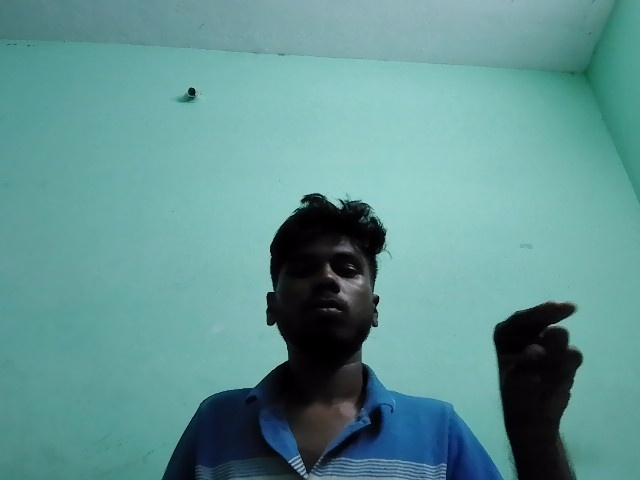No: (444, 275, 640, 436)
